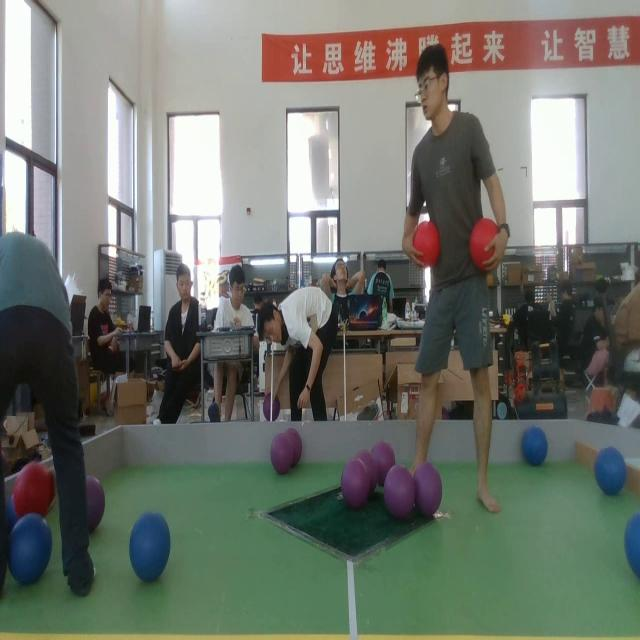blue: (129, 507, 171, 579), (9, 514, 52, 583), (594, 443, 626, 499), (518, 422, 548, 466), (624, 512, 640, 578)
invalid: (413, 463, 446, 517), (340, 458, 370, 514), (386, 464, 416, 518), (371, 442, 400, 483), (270, 436, 293, 475)
red: (13, 463, 52, 521), (471, 218, 498, 271), (412, 220, 438, 264)
